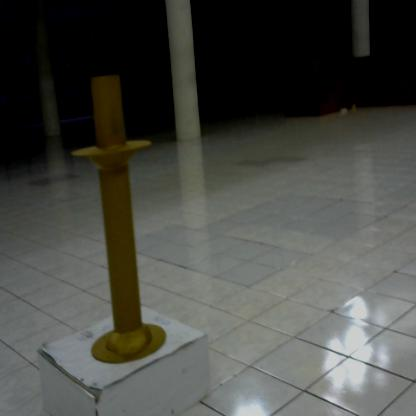pole: (66, 70, 178, 374)
